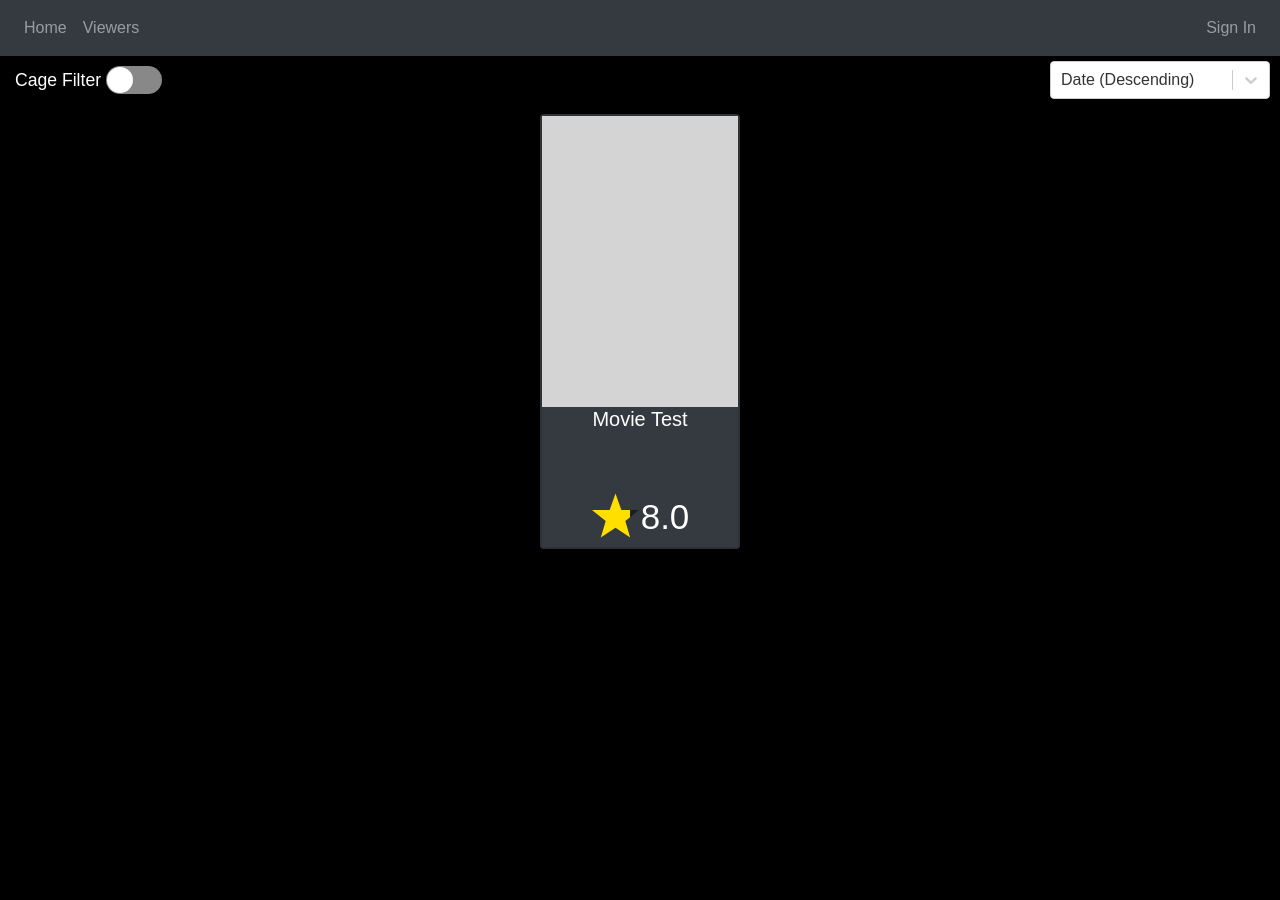
Scenario: App Comp › runs the back function
Click the button "Sign In".
click(1231, 28)  # box [1206, 19, 1256, 36]
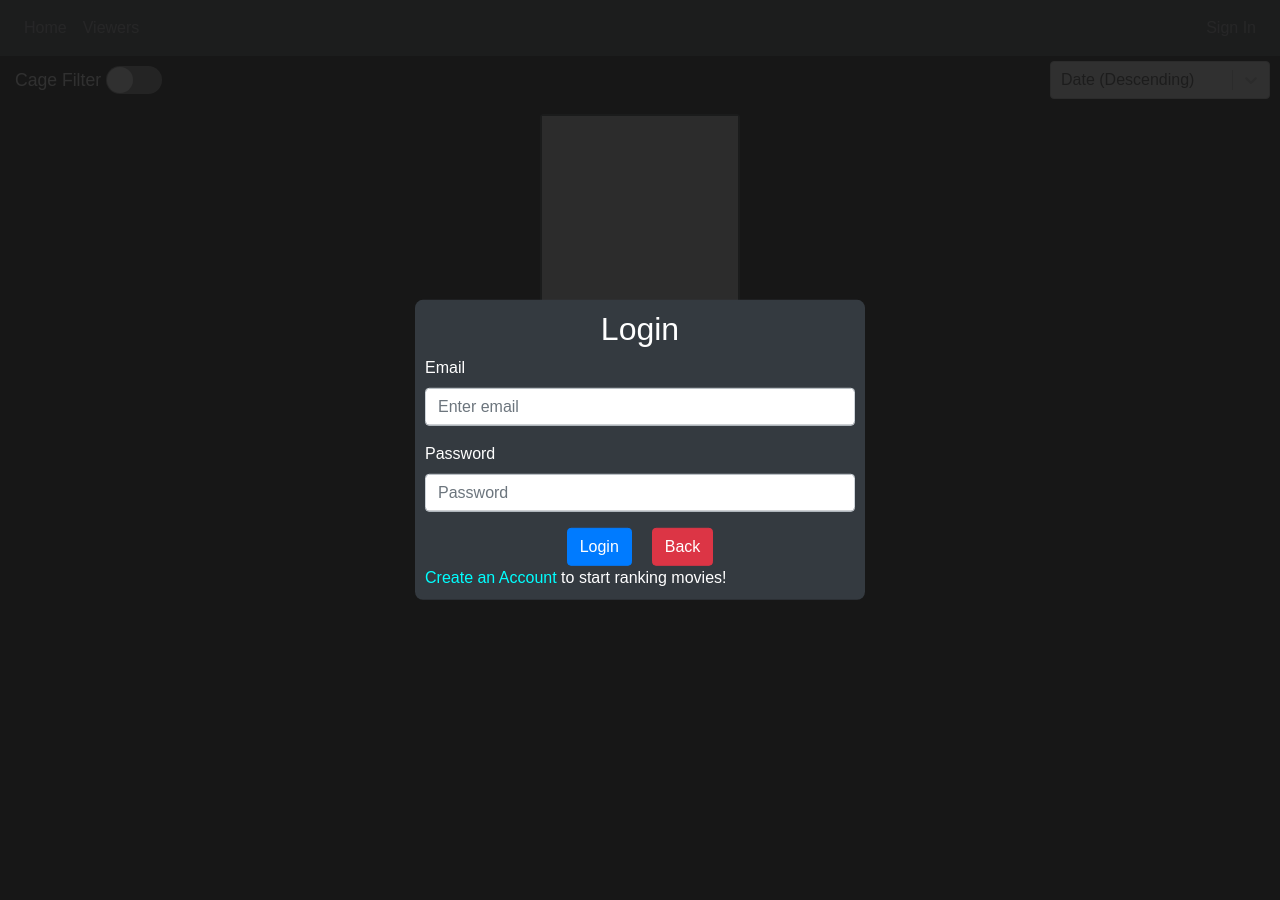
Expected: the field labelled "Email" is shown, [425, 388, 855, 426]
Click the button "Back".
click(683, 547)  # box [652, 528, 713, 566]
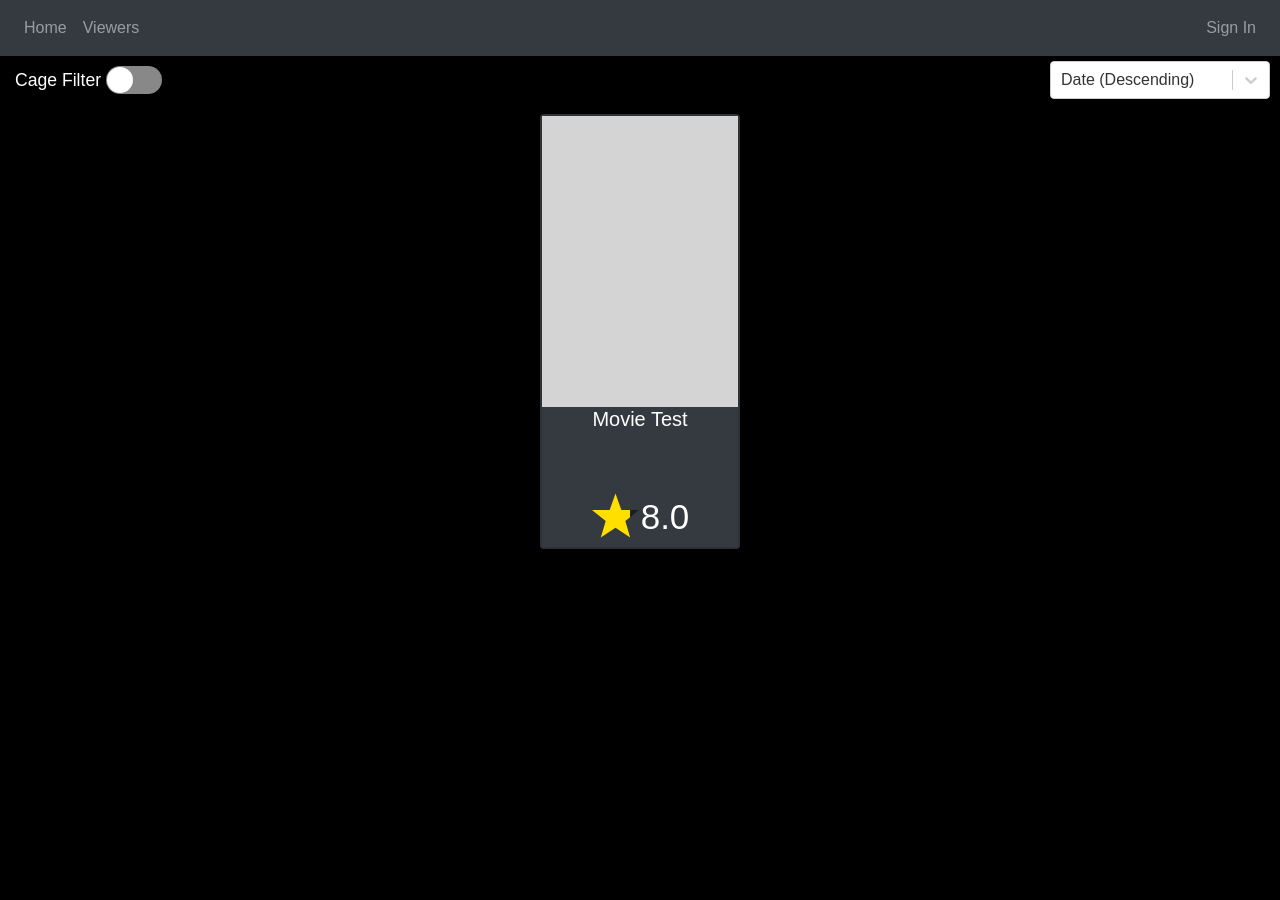
Expected: the label labelled "Email" is gone
